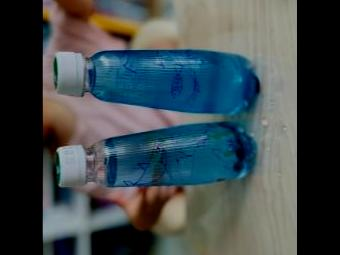bottle: (54, 118, 256, 187), (54, 46, 258, 114)
